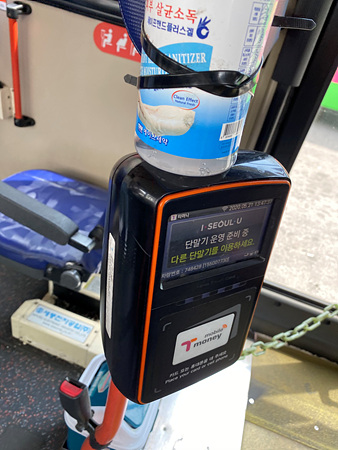terminal: (116, 158, 270, 389)
